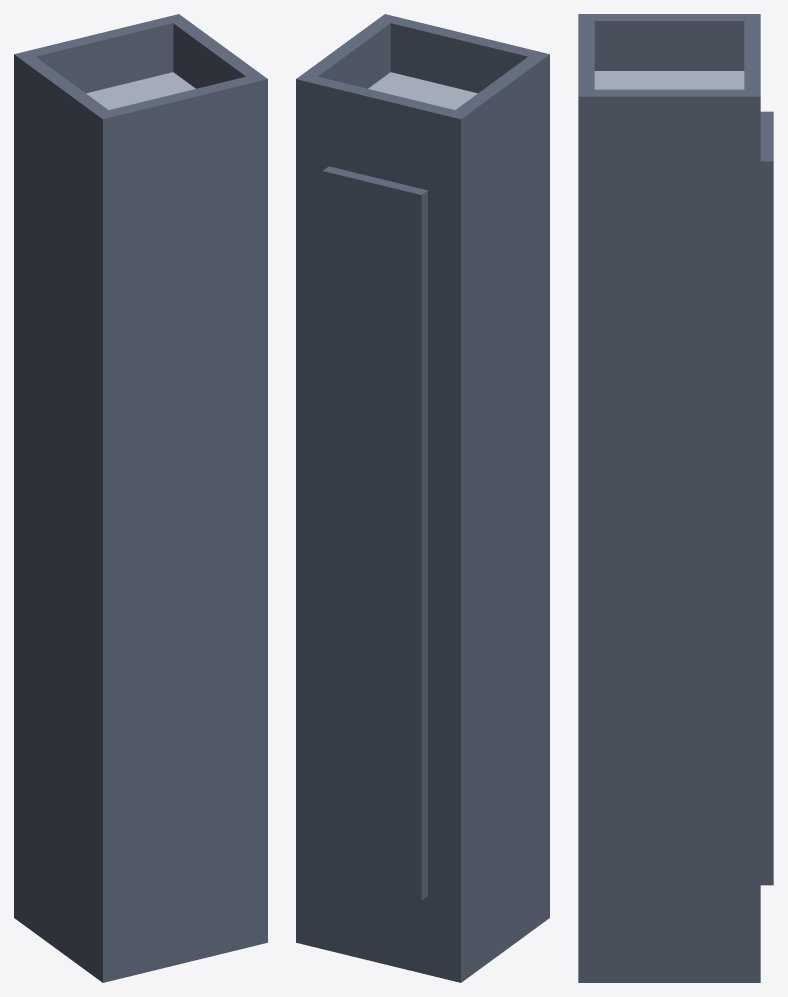
The model's file is up-down-wall-lamp-lite.glb.
The picture shows the model from 3 angles, left to right: view 1: azimuth 30°, elevation 25°; view 2: azimuth 150°, elevation 25°; view 3: azimuth 270°, elevation 25°; orthographic projection. The views are drawn at different scales.
Parts seen in each view (by area): view 1: up-down-wall-lamp-body, up-down-wall-lamp-diffuser; view 2: up-down-wall-lamp-body, up-down-wall-lamp-diffuser; view 3: up-down-wall-lamp-body, up-down-wall-lamp-diffuser.
Part boxes in pixels (x1=…): up-down-wall-lamp-body: x1=14, y1=14, x2=267, y2=982; up-down-wall-lamp-diffuser: x1=86, y1=72, x2=195, y2=109; up-down-wall-lamp-body: x1=296, y1=14, x2=549, y2=982; up-down-wall-lamp-diffuser: x1=368, y1=72, x2=477, y2=109; up-down-wall-lamp-body: x1=578, y1=14, x2=773, y2=982; up-down-wall-lamp-diffuser: x1=594, y1=71, x2=744, y2=89.
Size of the model in its own units: 0.06 by 0.3 by 0.06.
